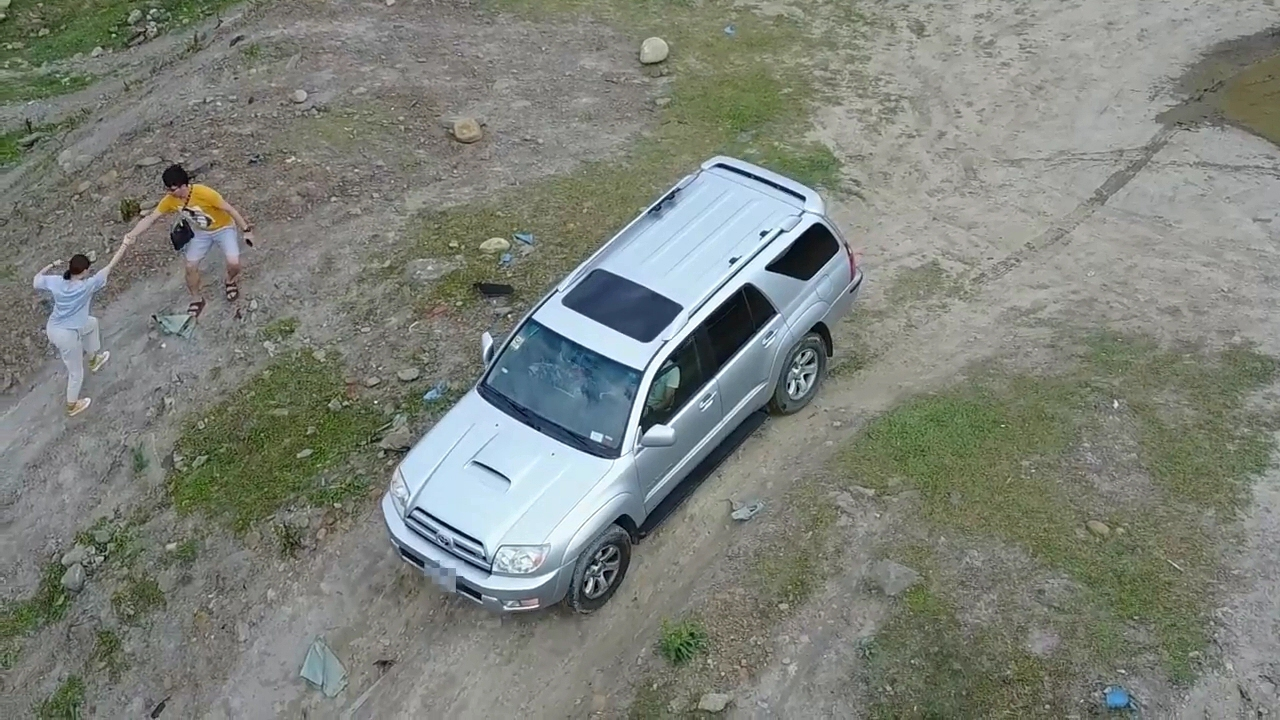araba: (379, 153, 860, 616)
insan: (127, 168, 258, 322), (31, 241, 113, 409)
